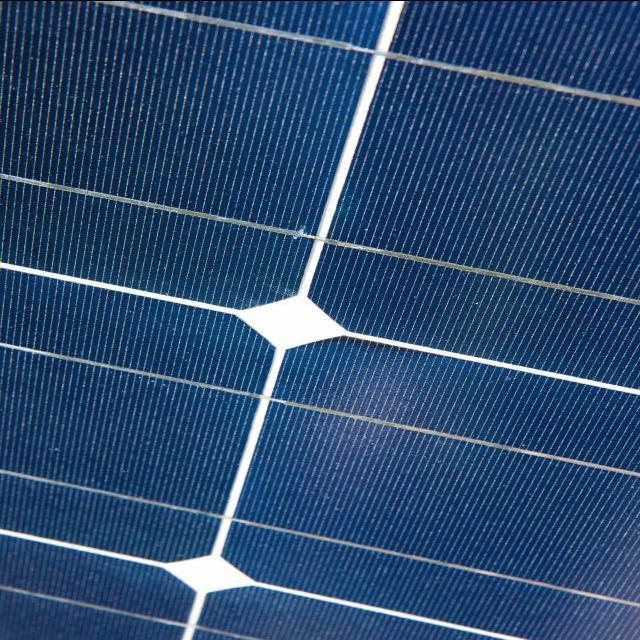no faulty: (7, 0, 635, 640)
